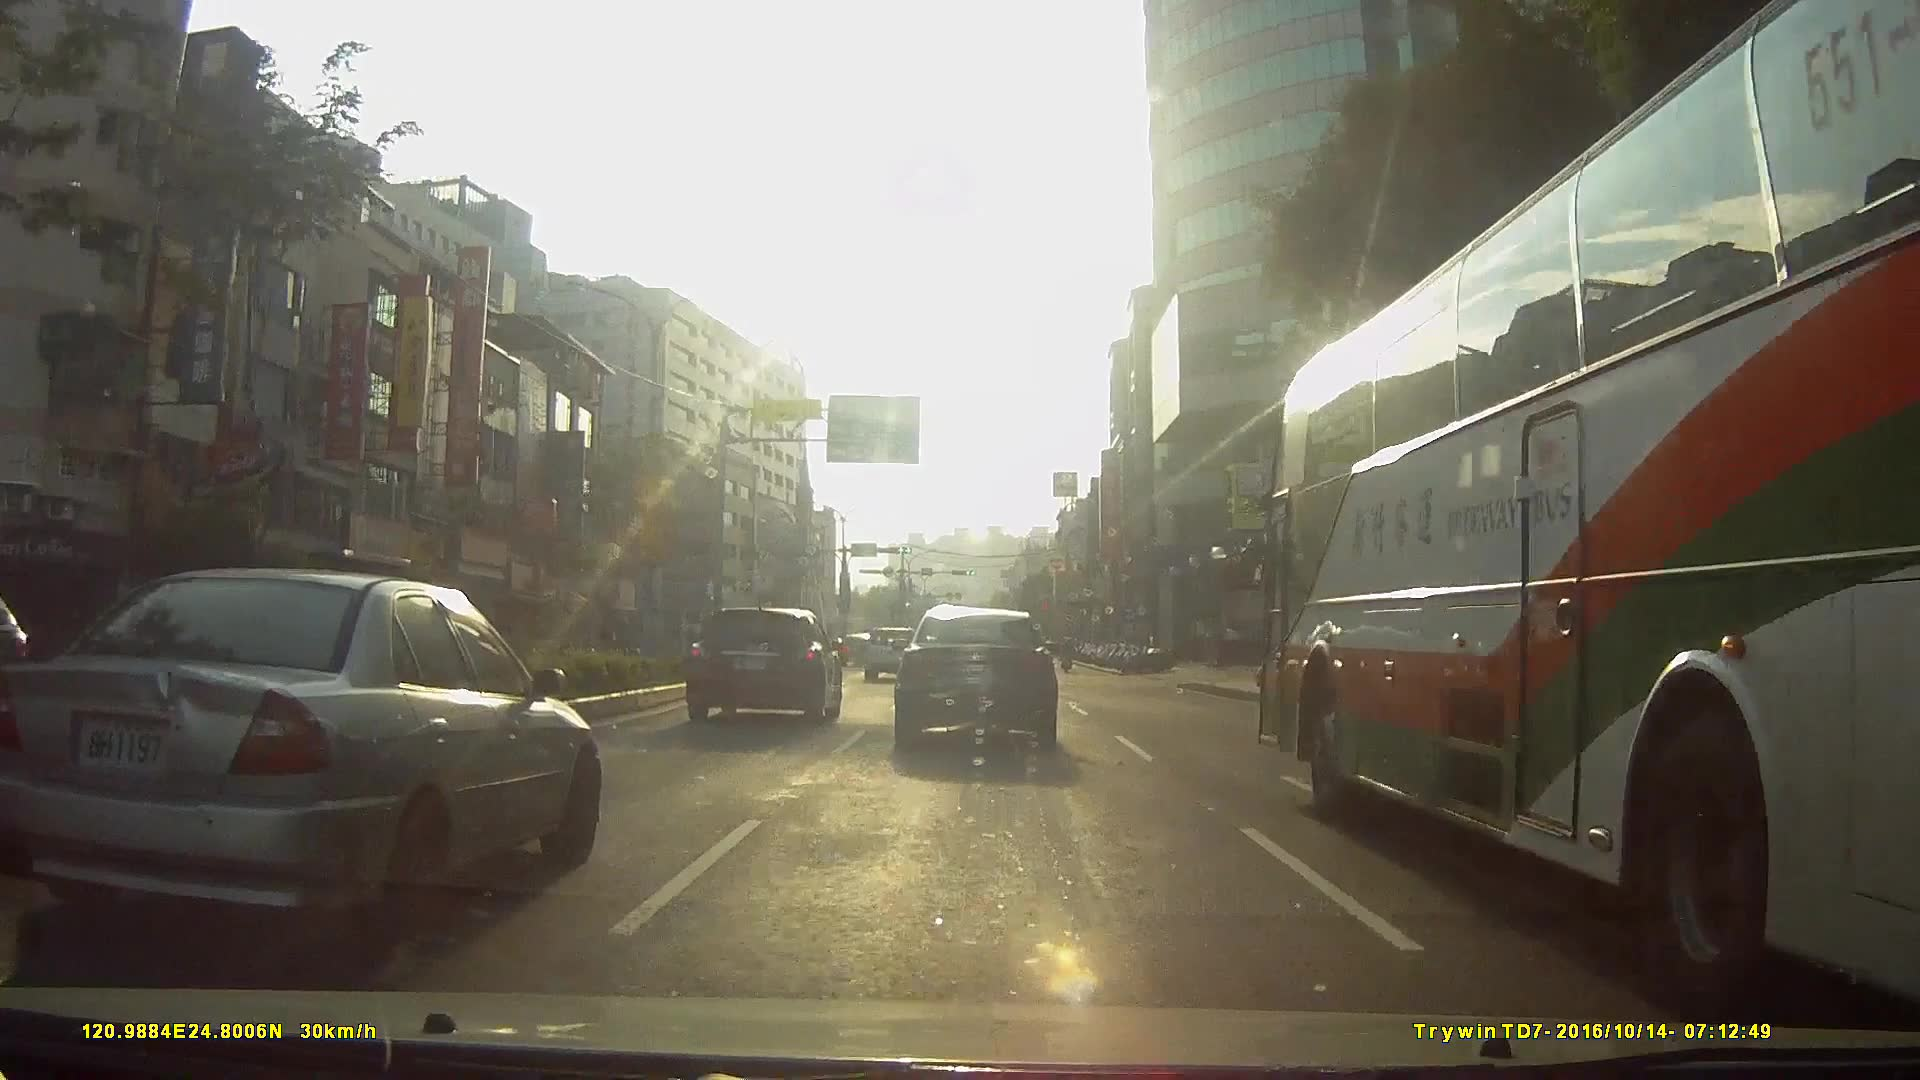vehicle: (1226, 30, 1917, 967), (0, 564, 599, 963), (887, 603, 1055, 752), (683, 607, 843, 723), (861, 626, 920, 680)
